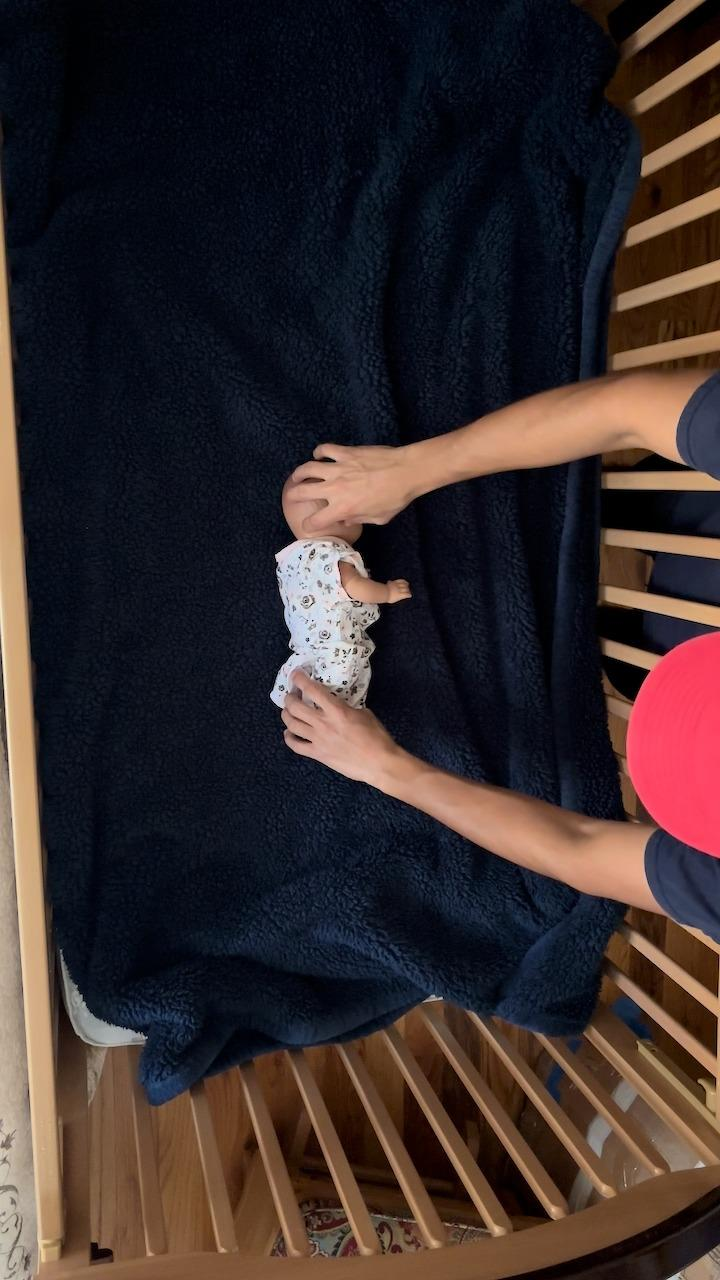baby: (260, 456, 415, 743)
